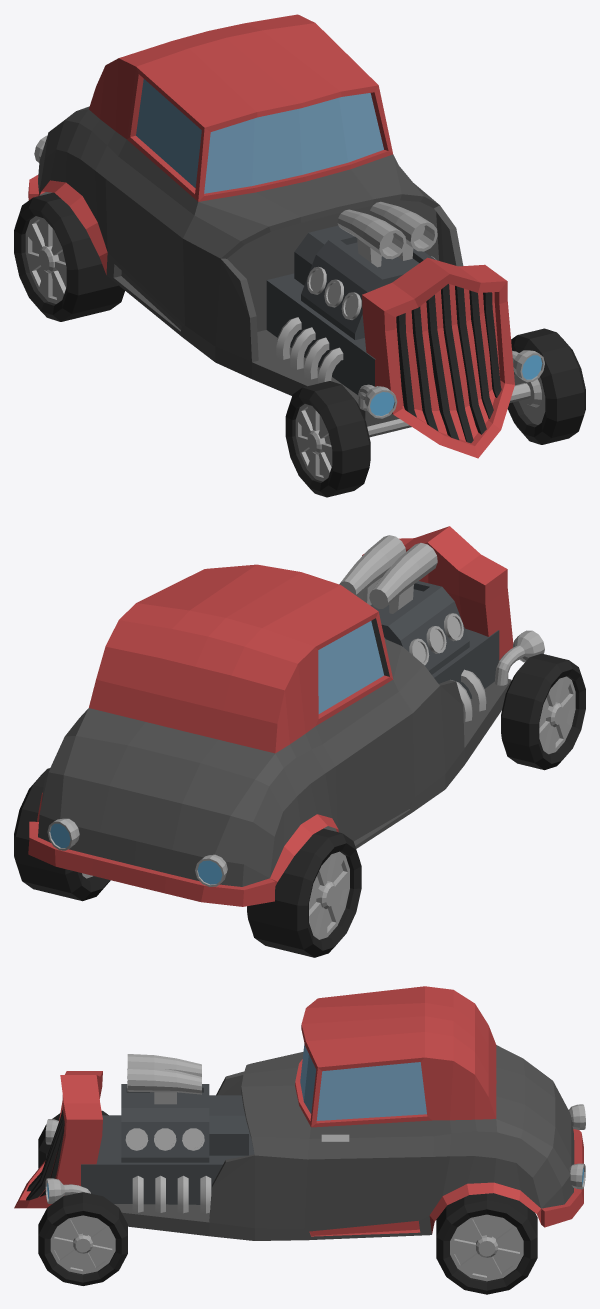
The model's file is car1.fbx.
3 renders of one model, top to bottom at view 1: azimuth 30°, elevation 25°; view 2: azimuth 150°, elevation 25°; view 3: azimuth 270°, elevation 25°, orthographic. The views are drawn at different scales.
Visible parts, largest first — view 1: car1, pCube2, pCylinder2, pCylinder1, pCube10, pCube4, pCube3, pCylinder7, pTorus5, pSphere1, pCylinder6, pCylinder8; view 2: car1, pCylinder1, pCylinder2, pCube2, pCylinder7, pCube4, pCube3, pSphere2, pCylinder6, pSphere1, pTorus5; view 3: car1, pCylinder1, pCube4, pCylinder2, pCube3, pCube2, pCylinder7, pTorus5, pCylinder6, pCube10, pSphere1, pSphere2.
Part boxes in pixels (left/top/right/bottom): car1: left=28, top=14, right=463, bottom=426; pCube2: left=362, top=257, right=514, bottom=458; pCylinder2: left=285, top=328, right=585, bottom=497; pCylinder1: left=14, top=192, right=124, bottom=321; pCube10: left=396, top=284, right=501, bottom=443; pCube4: left=294, top=225, right=435, bottom=339; pCube3: left=266, top=273, right=375, bottom=394; pCylinder7: left=337, top=201, right=437, bottom=267; pTorus5: left=276, top=317, right=343, bottom=383; pSphere1: left=358, top=350, right=544, bottom=418; pCylinder6: left=307, top=256, right=435, bottom=319; pCylinder8: left=367, top=383, right=530, bottom=437; car1: left=28, top=564, right=511, bottom=906; pCylinder1: left=14, top=768, right=361, bottom=957; pCylinder2: left=501, top=653, right=585, bottom=770; pCube2: left=362, top=526, right=513, bottom=659; pCylinder7: left=339, top=535, right=437, bottom=613; pCube4: left=357, top=581, right=469, bottom=674; pCube3: left=432, top=628, right=499, bottom=699; pSphere2: left=47, top=818, right=227, bottom=886; pCylinder6: left=409, top=613, right=463, bottom=665; pSphere1: left=494, top=630, right=544, bottom=685; pTorus5: left=451, top=669, right=486, bottom=721; car1: left=114, top=986, right=583, bottom=1240; pCylinder1: left=436, top=1193, right=537, bottom=1294; pCube4: left=121, top=1084, right=248, bottom=1162; pCylinder2: left=38, top=1110, right=127, bottom=1285; pCube3: left=81, top=1115, right=254, bottom=1204; pCube2: left=14, top=1071, right=102, bottom=1208; pCylinder7: left=127, top=1054, right=201, bottom=1104; pTorus5: left=132, top=1175, right=211, bottom=1213; pCylinder6: left=125, top=1128, right=204, bottom=1150; pCube10: left=26, top=1110, right=64, bottom=1200; pSphere1: left=45, top=1119, right=90, bottom=1203; pSphere2: left=569, top=1104, right=585, bottom=1189.
Size of the model in its own units: 2.37 by 2.1 by 4.9.
